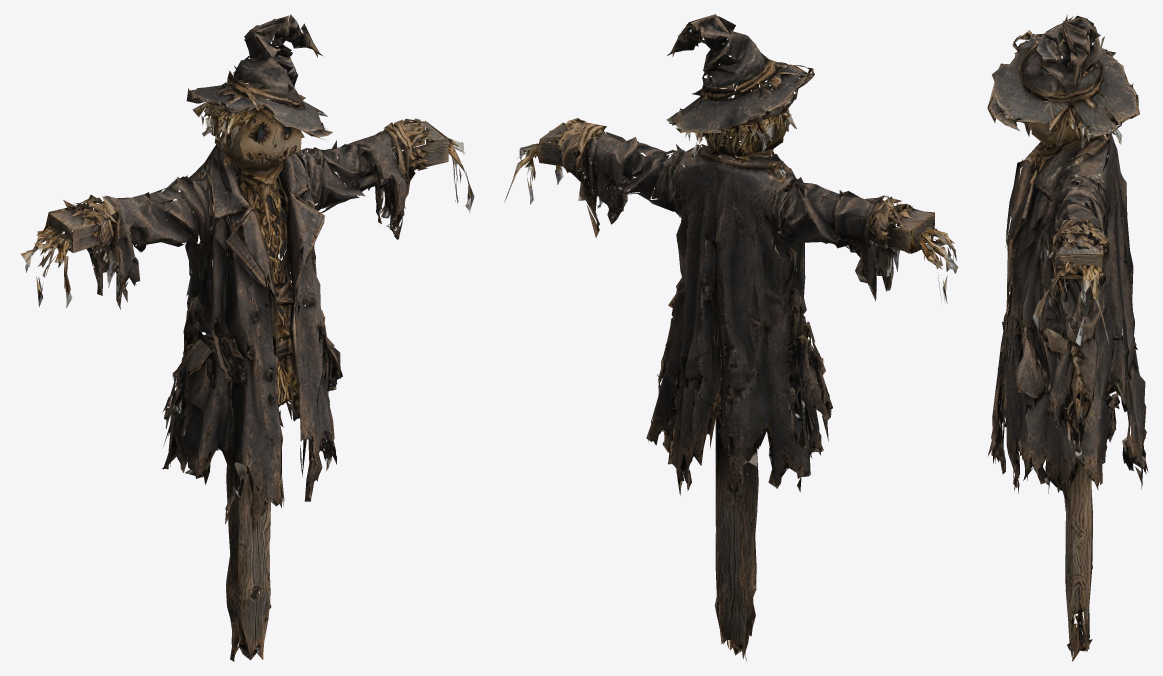
File: Scarecrow.fbx
3 renders of one model, left to right at view 1: azimuth 30°, elevation 25°; view 2: azimuth 150°, elevation 25°; view 3: azimuth 270°, elevation 25°, orthographic. The views are drawn at different scales.
Visible parts, largest first — view 1: Scarecrow; view 2: Scarecrow; view 3: Scarecrow.
Boxes of the visible parts, x1,y1,x2,y2 form: Scarecrow: (21, 14, 474, 661); Scarecrow: (504, 14, 958, 661); Scarecrow: (987, 15, 1148, 661).
Bounding box in the file's own units: 73.05 × 99.68 × 22.38.
1 material, 1 textured.
